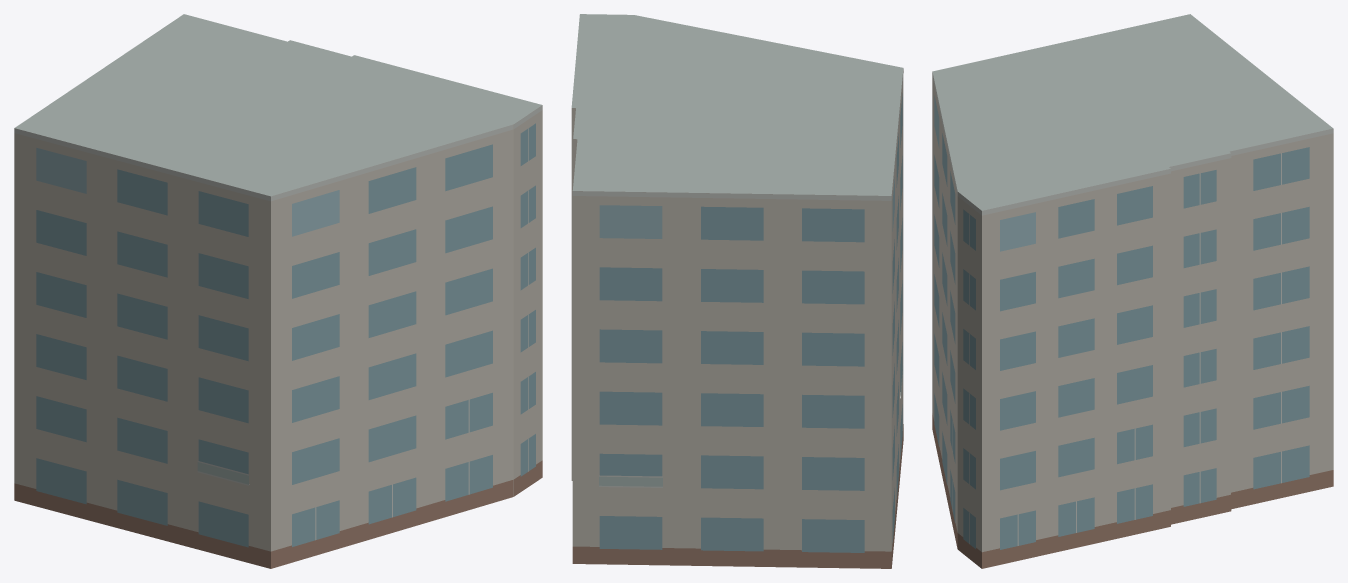
File: survey-upis-32775782.glb
The picture shows the model from 3 angles, left to right: view 1: azimuth 30°, elevation 25°; view 2: azimuth 150°, elevation 25°; view 3: azimuth 270°, elevation 25°; orthographic projection. The views are drawn at different scales.
Parts seen in each view (by area): view 1: survey-upis-32775782.tmp; view 2: survey-upis-32775782.tmp; view 3: survey-upis-32775782.tmp.
Boxes of the visible parts, x1=… form: survey-upis-32775782.tmp: x1=14, y1=14, x2=542, y2=568; survey-upis-32775782.tmp: x1=571, y1=14, x2=903, y2=568; survey-upis-32775782.tmp: x1=932, y1=14, x2=1333, y2=568.
Bounding box in the file's own units: 21.6 × 18.3 × 18.59.
